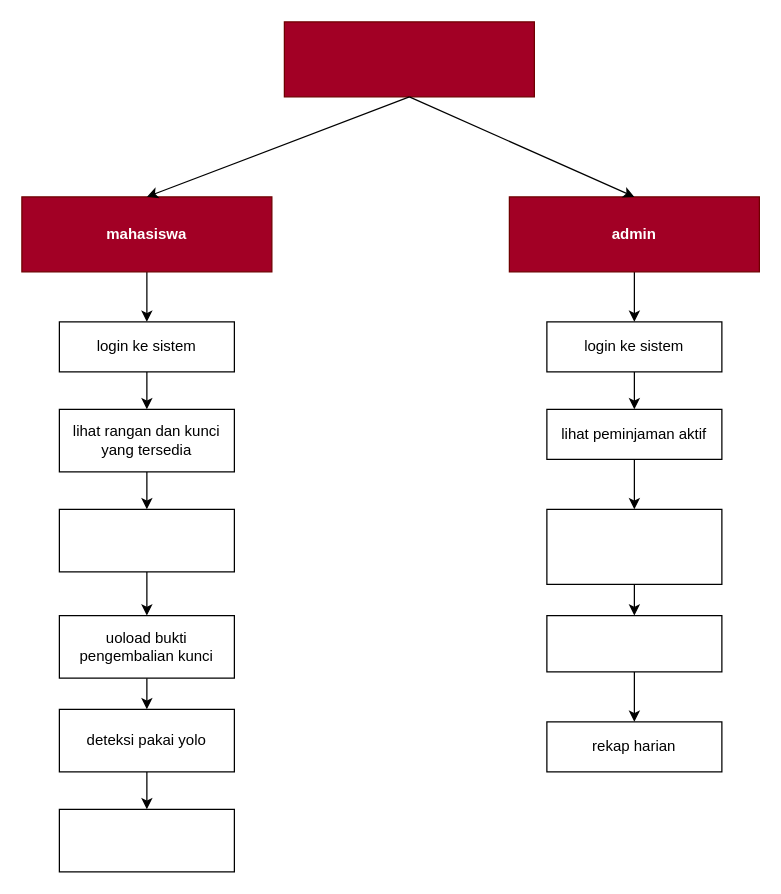
Image size: 781x894. Some labels were removed from this diagram. Each missing label, with the box of its shape:
ajukan pinjaman kunci / proyektor: (58, 508, 234, 572)
buat laporan harian: (546, 614, 722, 672)
lihat hasil deteksi gambar/ lihat manual bukti: (546, 508, 722, 584)
notifikasi ke user: (58, 808, 234, 872)
system kunciku-pnl: (283, 21, 534, 97)
